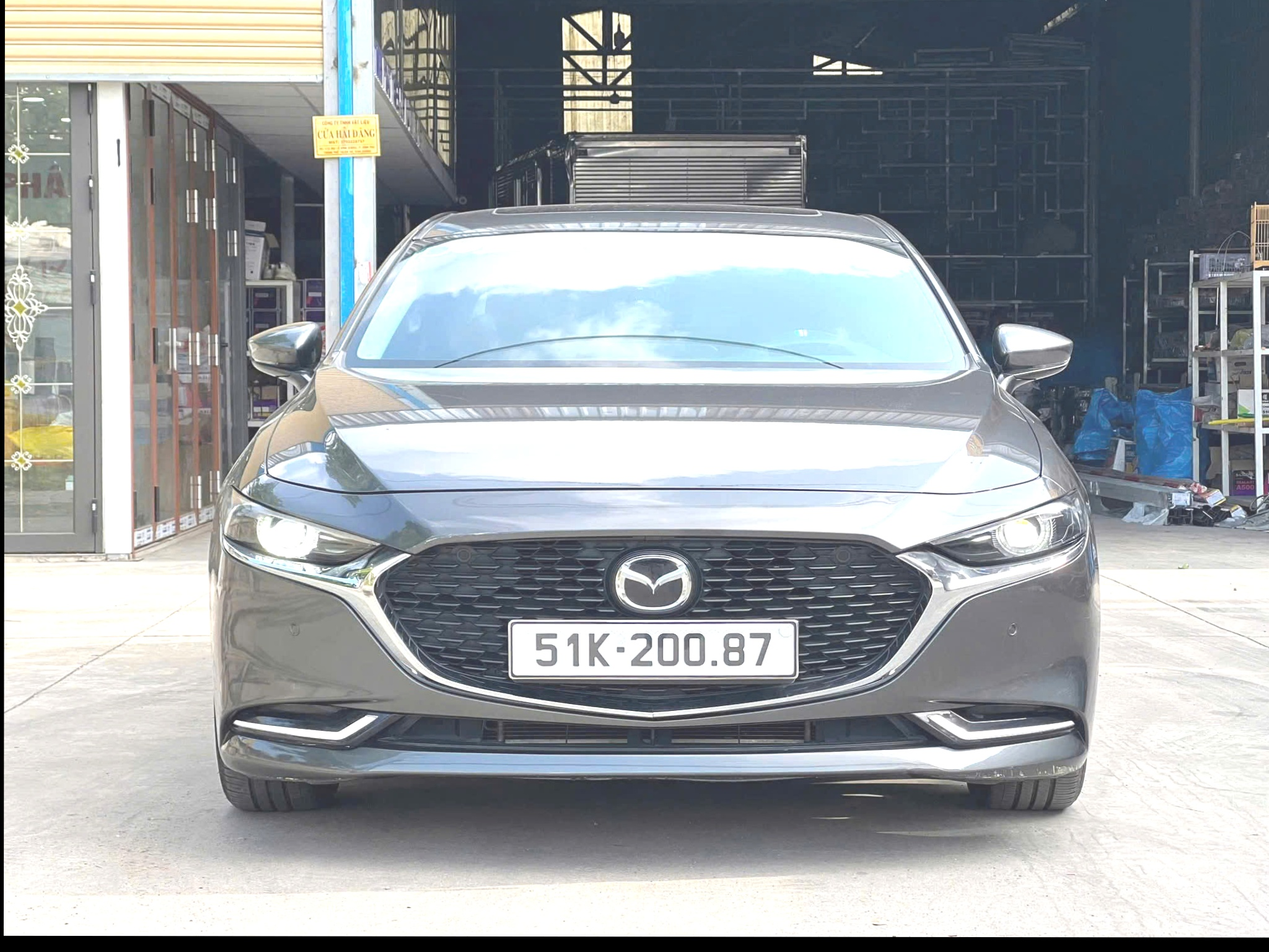Bien-so: (455, 633, 745, 717)
